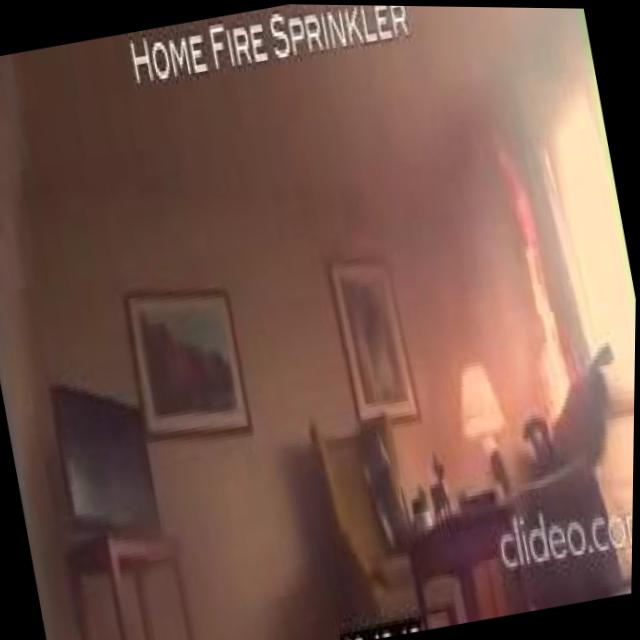fire: (479, 133, 585, 432)
